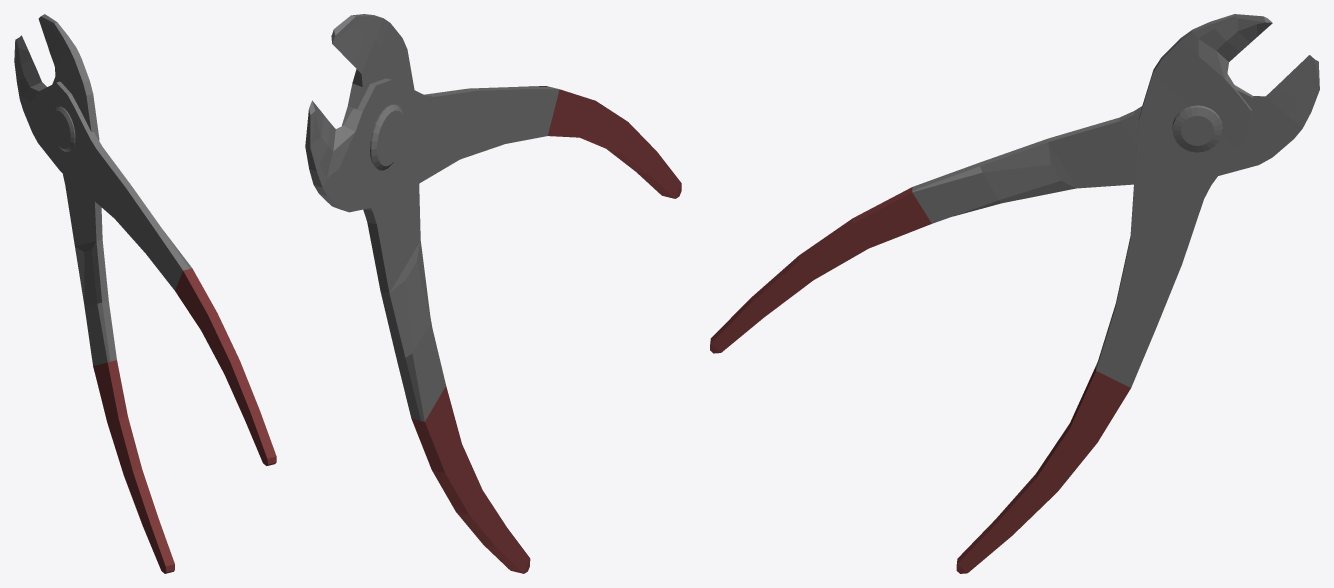
Rendered from WireCutters.fbx.
3 renders of one model, left to right at view 1: azimuth 30°, elevation 25°; view 2: azimuth 150°, elevation 25°; view 3: azimuth 270°, elevation 25°, orthographic. The views are drawn at different scales.
Parts seen in each view (by area): view 1: Cube.009, Cube.008, Cylinder.026; view 2: Cube.009, Cube.008, Cylinder.026; view 3: Cube.008, Cube.009, Cylinder.026.
Part boxes in pixels (x1=…): Cube.009: x1=14, y1=35, x2=276, y2=465; Cube.008: x1=38, y1=14, x2=174, y2=573; Cylinder.026: x1=51, y1=106, x2=75, y2=151; Cube.009: x1=305, y1=78, x2=681, y2=212; Cube.008: x1=331, y1=14, x2=530, y2=573; Cylinder.026: x1=370, y1=104, x2=405, y2=170; Cube.008: x1=956, y1=14, x2=1272, y2=573; Cube.009: x1=710, y1=55, x2=1319, y2=353; Cylinder.026: x1=1172, y1=105, x2=1222, y2=152.
Size of the model in its own units: 16.02 by 398 by 394.
